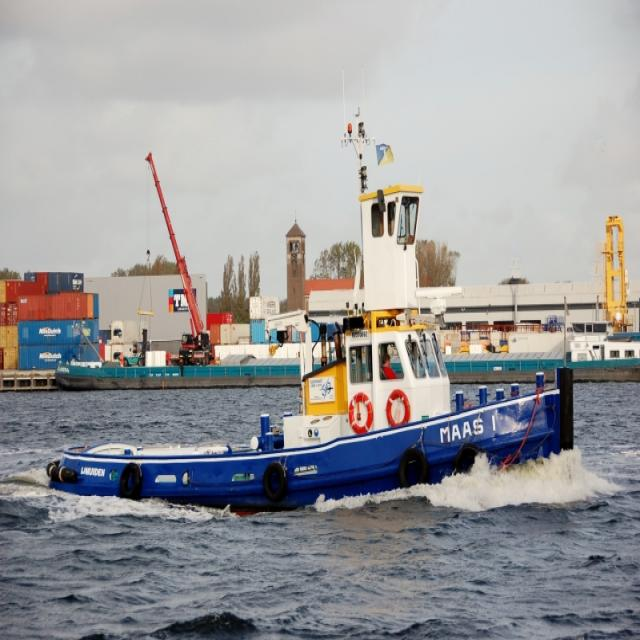tugboat: (42, 63, 579, 524)
